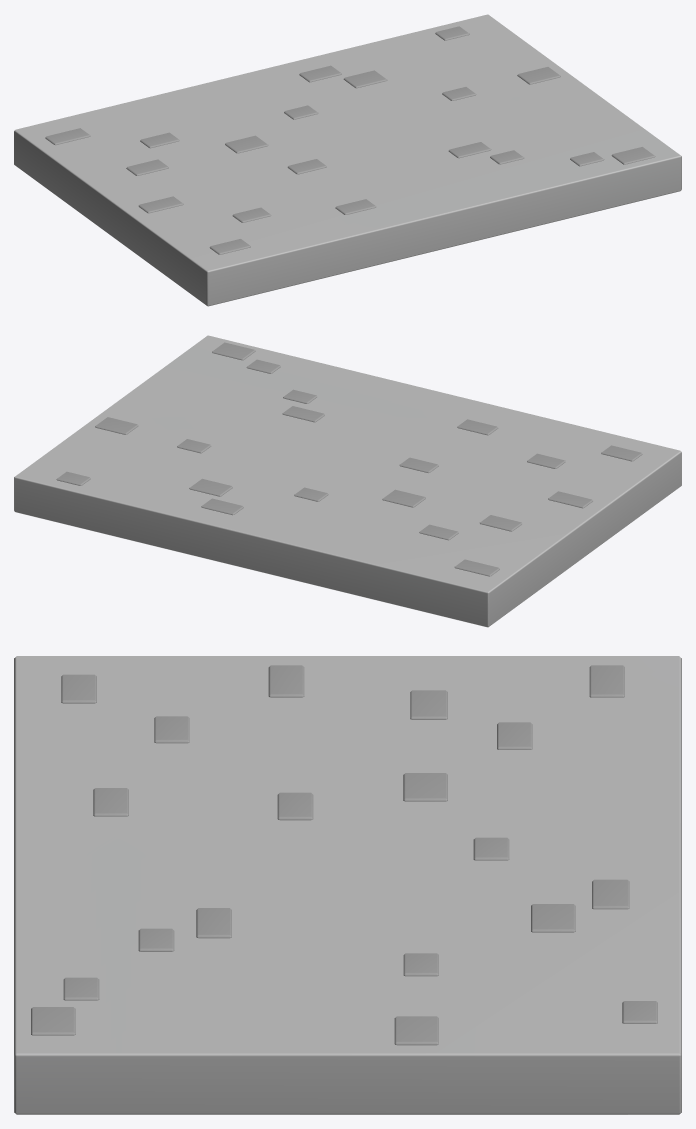
File: Town_2_Base_1.glb
The picture shows the model from 3 angles, top to bottom: view 1: azimuth 30°, elevation 25°; view 2: azimuth 150°, elevation 25°; view 3: azimuth 270°, elevation 25°; orthographic projection. The views are drawn at different scales.
Visible parts, largest first — view 1: Town_2_Base_1; view 2: Town_2_Base_1; view 3: Town_2_Base_1.
Part boxes in pixels (x1=…): Town_2_Base_1: x1=14, y1=14, x2=681, y2=306; Town_2_Base_1: x1=14, y1=335, x2=681, y2=627; Town_2_Base_1: x1=14, y1=656, x2=681, y2=1114.
Size of the model in its own units: 15.84 by 1.2 by 11.2.
Materials: 1 (1 with a texture image).
